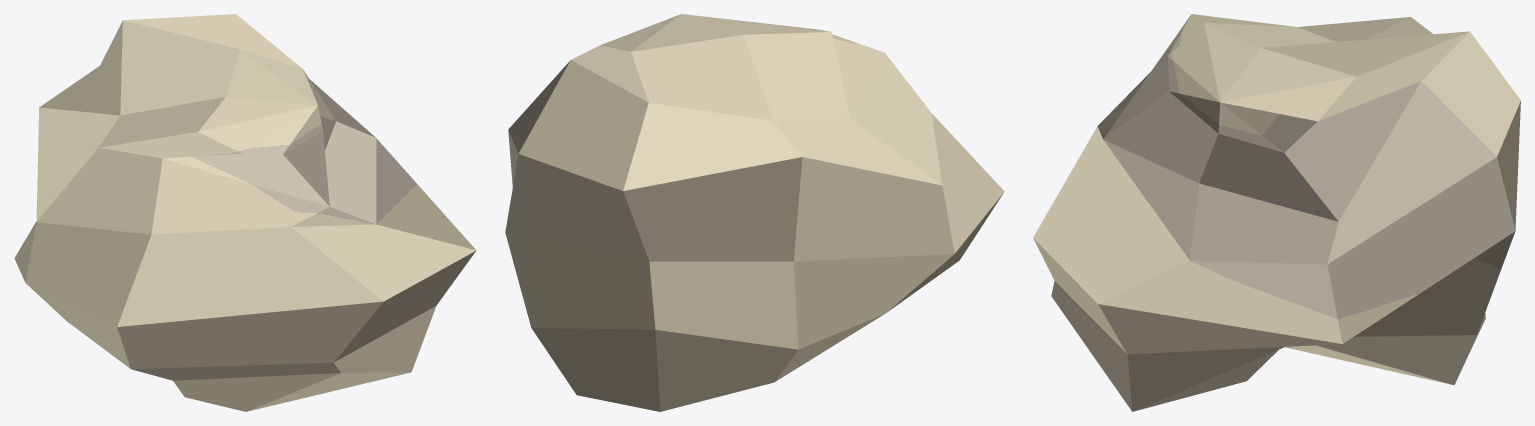
The model's file is dough.fbx.
3 renders of one model, left to right at view 1: azimuth 30°, elevation 25°; view 2: azimuth 150°, elevation 25°; view 3: azimuth 270°, elevation 25°, orthographic. The views are drawn at different scales.
Visible parts, largest first — view 1: dough; view 2: dough; view 3: dough.
Boxes of the visible parts, x1,y1,x2,y2 form: dough: [14, 14, 476, 411]; dough: [505, 14, 1004, 411]; dough: [1033, 14, 1520, 411].
Size of the model in its own units: 0.4117 by 0.3095 by 0.4172.
